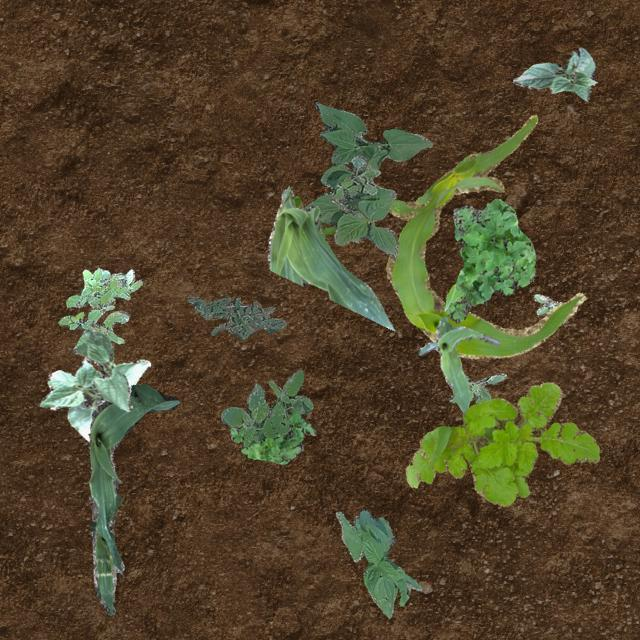crop: (384, 114, 584, 358), (88, 383, 178, 614), (303, 100, 432, 258), (267, 186, 393, 330), (334, 508, 420, 618), (39, 358, 150, 440), (416, 316, 498, 412), (72, 328, 132, 411), (512, 46, 596, 100)
weed: (404, 382, 598, 504), (444, 198, 534, 322), (220, 368, 312, 446), (57, 268, 142, 342), (228, 408, 314, 463), (187, 296, 286, 338), (330, 154, 380, 202), (292, 194, 334, 236), (448, 372, 506, 402), (532, 292, 562, 314)
